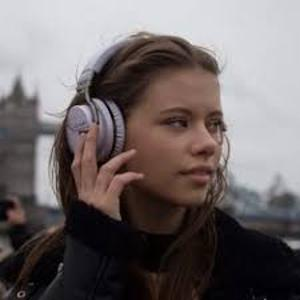Headphones: (63, 26, 157, 167)
